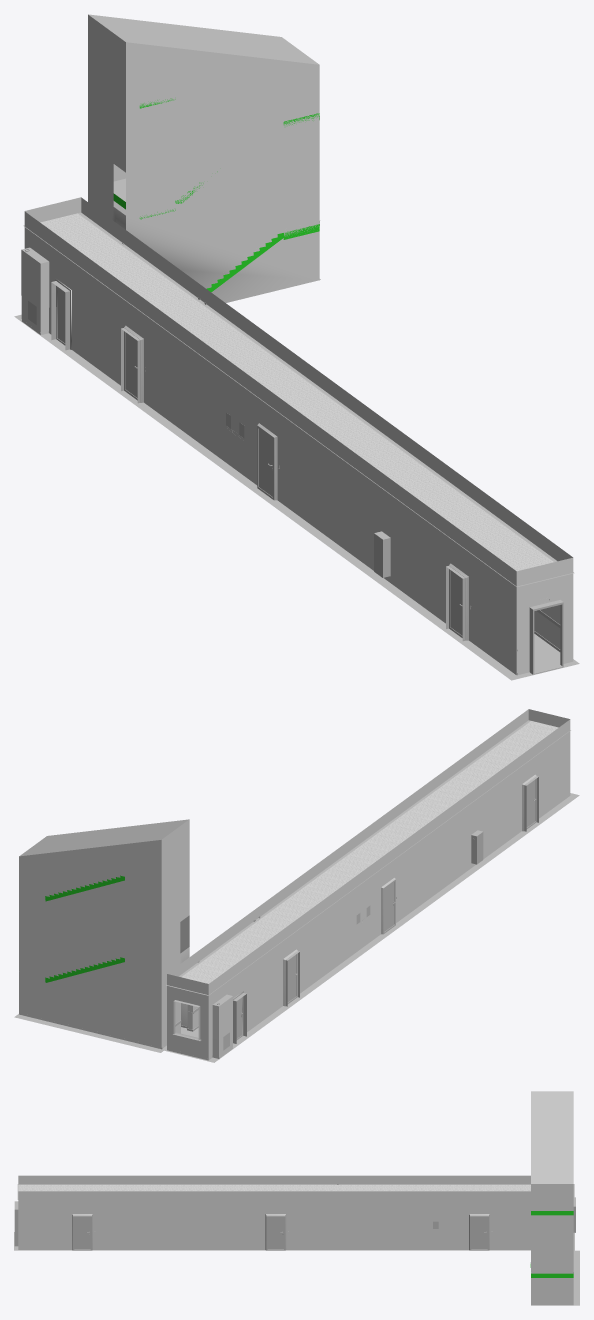
File: koridor_ue.fbx
The picture shows the model from 3 angles, top to bottom: view 1: azimuth 30°, elevation 25°; view 2: azimuth 150°, elevation 25°; view 3: azimuth 270°, elevation 25°; orthographic projection. The views are drawn at different scales.
Visible parts, largest first — view 1: koridor.005, Box072, koridor.001, koridor.002, koridor.007, koridor; view 2: koridor.005, Box072, koridor.001, koridor.002, koridor.007, koridor, door_main.014; view 3: koridor.005, Box072, koridor.001, koridor, door_main.006, door_main.010, door_main.008, koridor.007, koridor.002.
Part boxes in pixels (left/top/right/bottom): koridor.005: left=21, top=197, right=573, bottom=675; Box072: left=88, top=14, right=319, bottom=302; koridor.001: left=40, top=213, right=553, bottom=571; koridor.002: left=14, top=314, right=579, bottom=680; koridor.007: left=23, top=212, right=574, bottom=586; koridor: left=113, top=98, right=320, bottom=279; koridor.005: left=167, top=709, right=570, bottom=1060; Box072: left=19, top=819, right=189, bottom=1049; koridor.001: left=181, top=721, right=558, bottom=983; koridor.002: left=164, top=793, right=579, bottom=1062; koridor.007: left=166, top=720, right=570, bottom=995; koridor: left=14, top=1014, right=190, bottom=1052; door_main.014: left=384, top=882, right=394, bottom=931; koridor.005: left=14, top=1175, right=575, bottom=1249; Box072: left=531, top=1091, right=573, bottom=1305; koridor.001: left=18, top=1185, right=530, bottom=1191; koridor: left=531, top=1211, right=579, bottom=1305; door_main.006: left=471, top=1216, right=487, bottom=1249; door_main.010: left=74, top=1216, right=90, bottom=1249; door_main.008: left=267, top=1216, right=283, bottom=1249; koridor.007: left=17, top=1184, right=574, bottom=1199; koridor.002: left=14, top=1232, right=574, bottom=1250.
Size of the model in its own units: 9.47 by 10.13 by 30.71.
